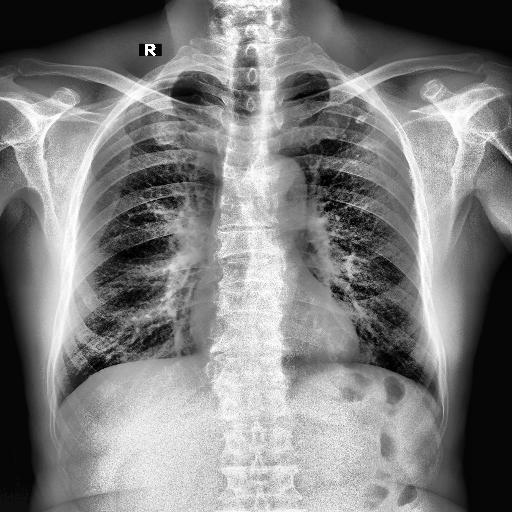0- Aortic enlargement: (249, 156, 307, 208)
13- Pulmonary fibrosis: (340, 110, 382, 156), (354, 110, 376, 150), (352, 107, 374, 126)
2- Calcification: (354, 110, 376, 150)
